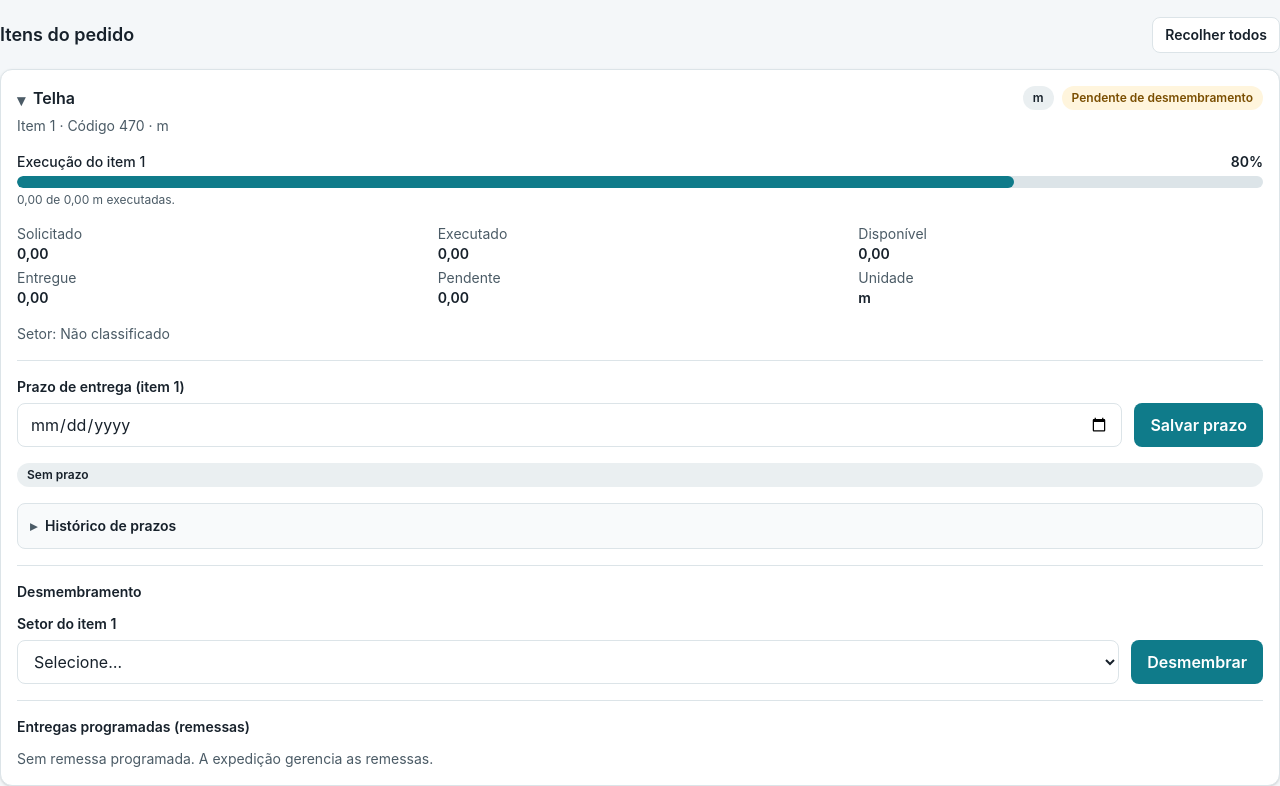
it: PedidoVendedorPage › bloqueia o envio quando não há sugestão nem escolha manual
This screenshot has width=1280, height=786.
(page scrolled)
Expected: the dropdown labelled "Setor do item 1" shows "Selecione…", [17,640,1119,684]
Step 1. Click the button with aria-label "Classificar item 1" → {"x": 1197, "y": 662}, box [1131,640,1263,684]
(page scrolled)
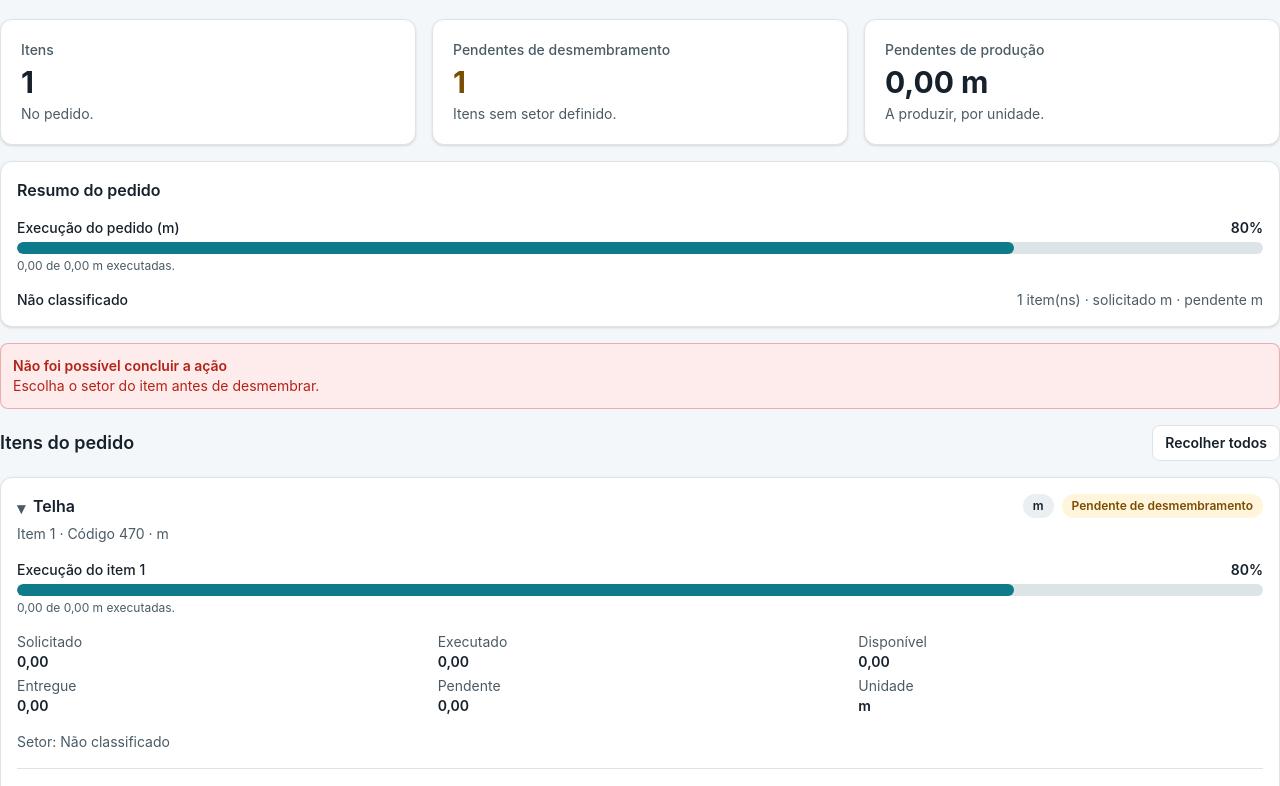
Expected: the text "Escolha o setor do item antes de desmembrar." is shown, [13,376,319,396]
